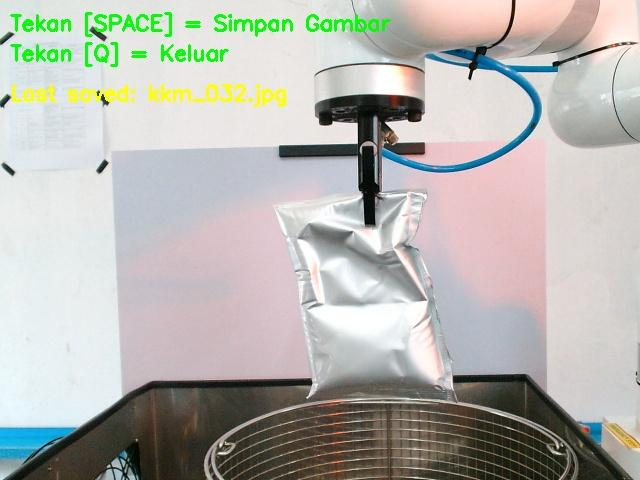retort-pouch: (272, 187, 458, 400)
